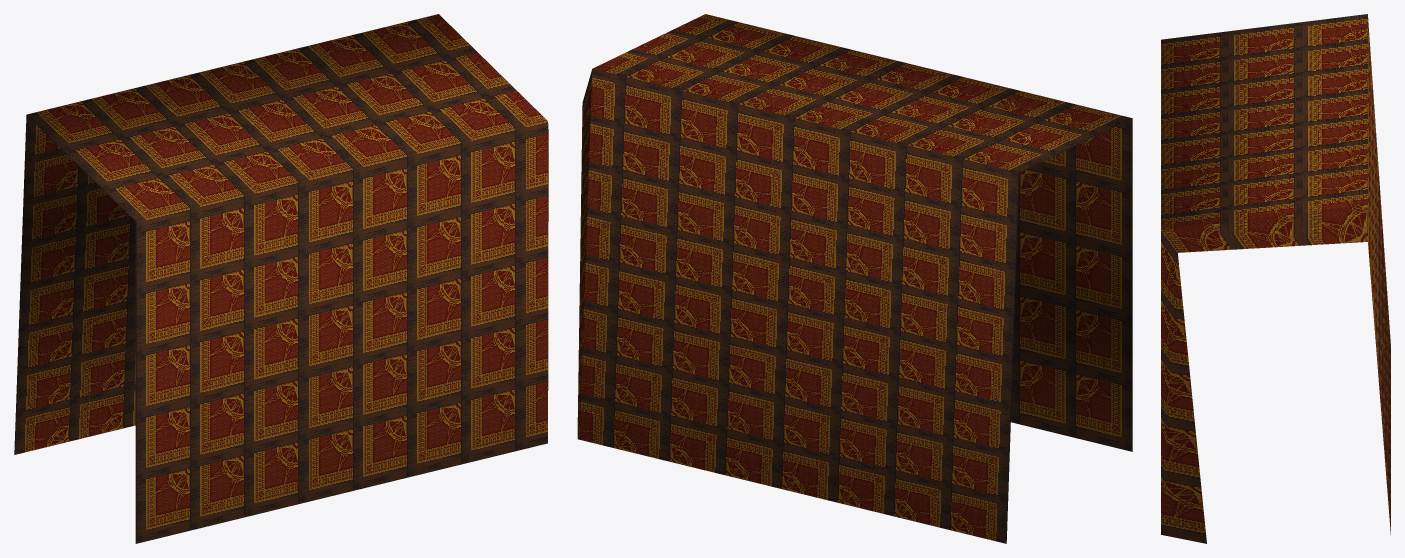
The model's file is 4616floor000_c.gltf.
3 views of the same model, side by side, from view 1: azimuth 30°, elevation 25°; view 2: azimuth 150°, elevation 25°; view 3: azimuth 270°, elevation 25° (orthographic). The views are drawn at different scales.
Visible parts, largest first — view 1: 4616floor000_c; view 2: 4616floor000_c; view 3: 4616floor000_c.
Boxes of the visible parts, box(x1,y1,x2,y2) form: 4616floor000_c: box(14, 14, 548, 543); 4616floor000_c: box(577, 14, 1132, 543); 4616floor000_c: box(1161, 14, 1390, 543).
Bounding box in the file's own units: 2.05 × 1.59 × 1.
1 material, 1 textured.
